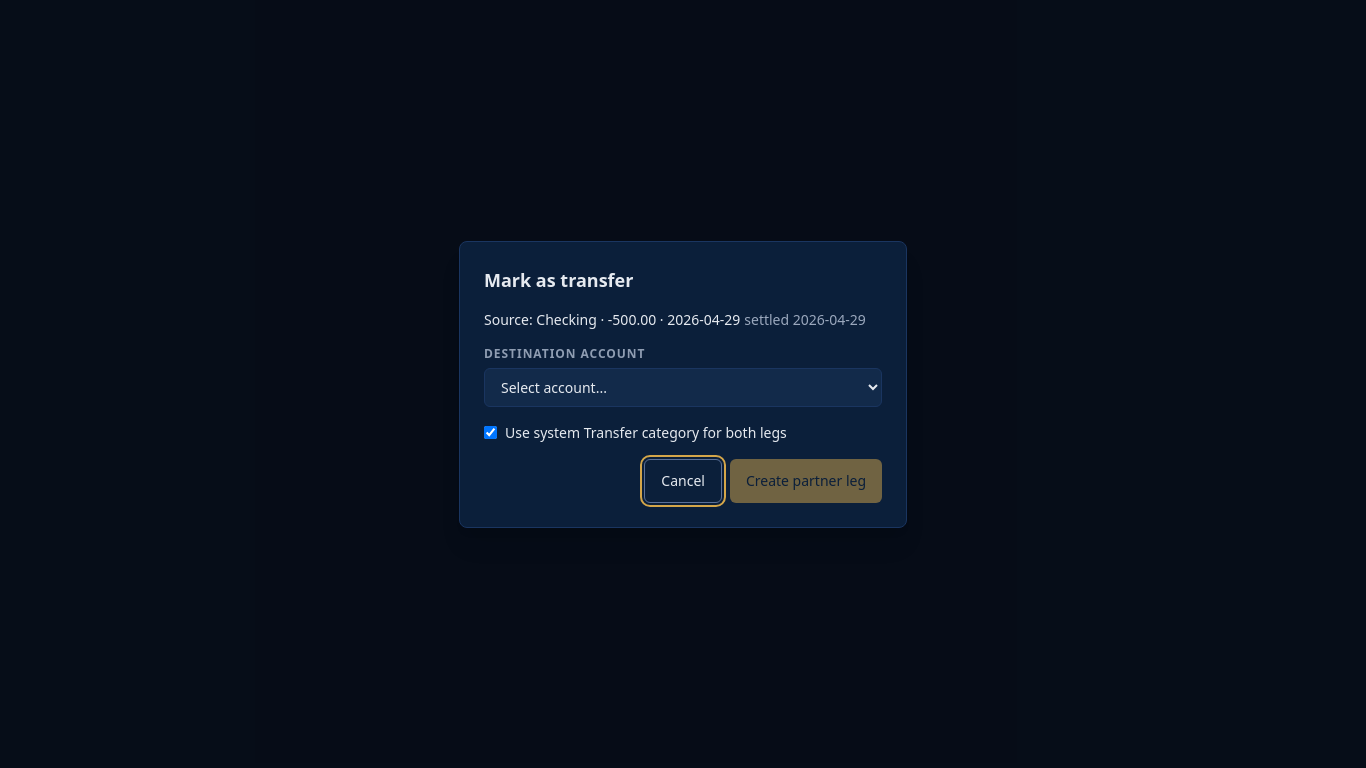
Test: MarkAsTransferModal › Stage 2 single near-date match: radio NOT pre-selected, primary disabled until ticked
Select "Savings" in the dropdown at (683, 387), box [484,368,882,406]
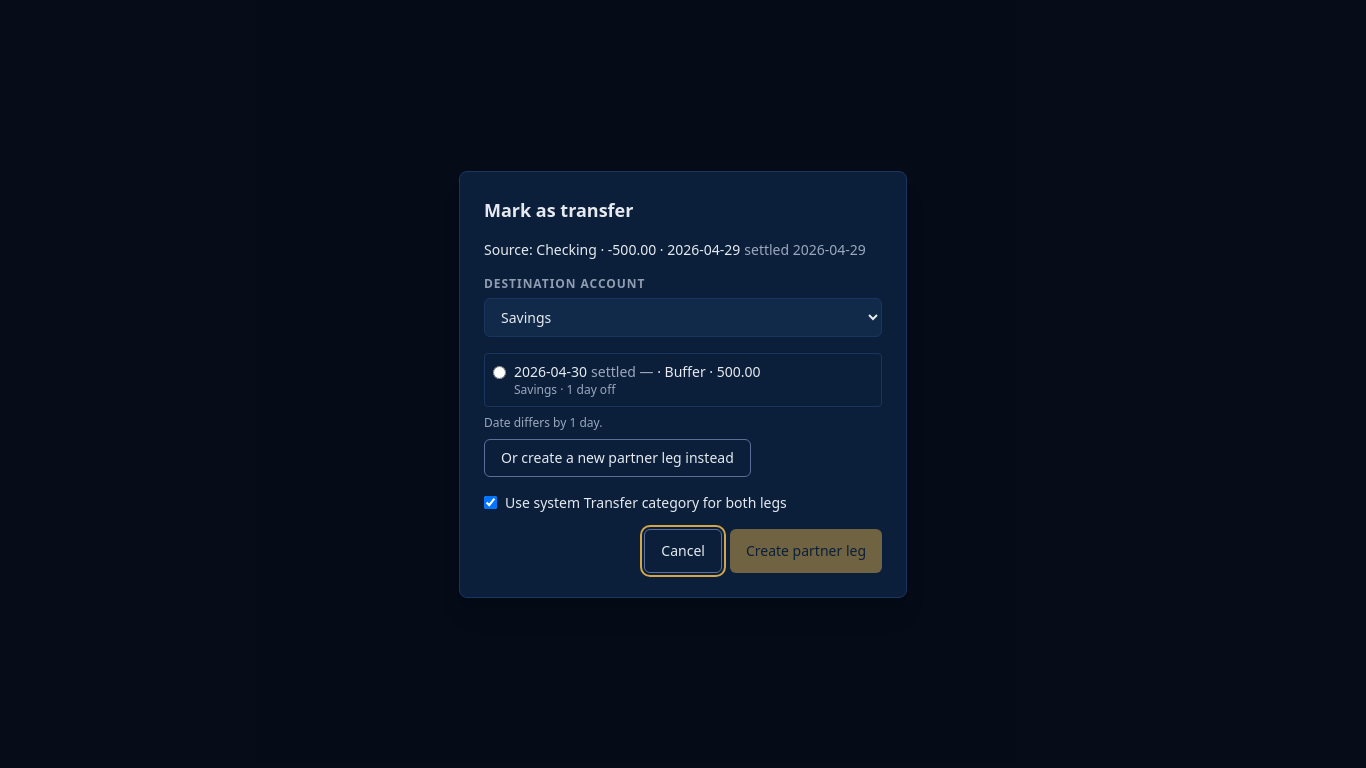
Check: the button "Create partner leg" is disabled, box [730,528,882,572]
Check: the text "Date differs by 1 day." is shown, box [484,414,602,430]
Check: the radio button is not checked
Click the radio button at (500, 372), box [493,366,506,378]
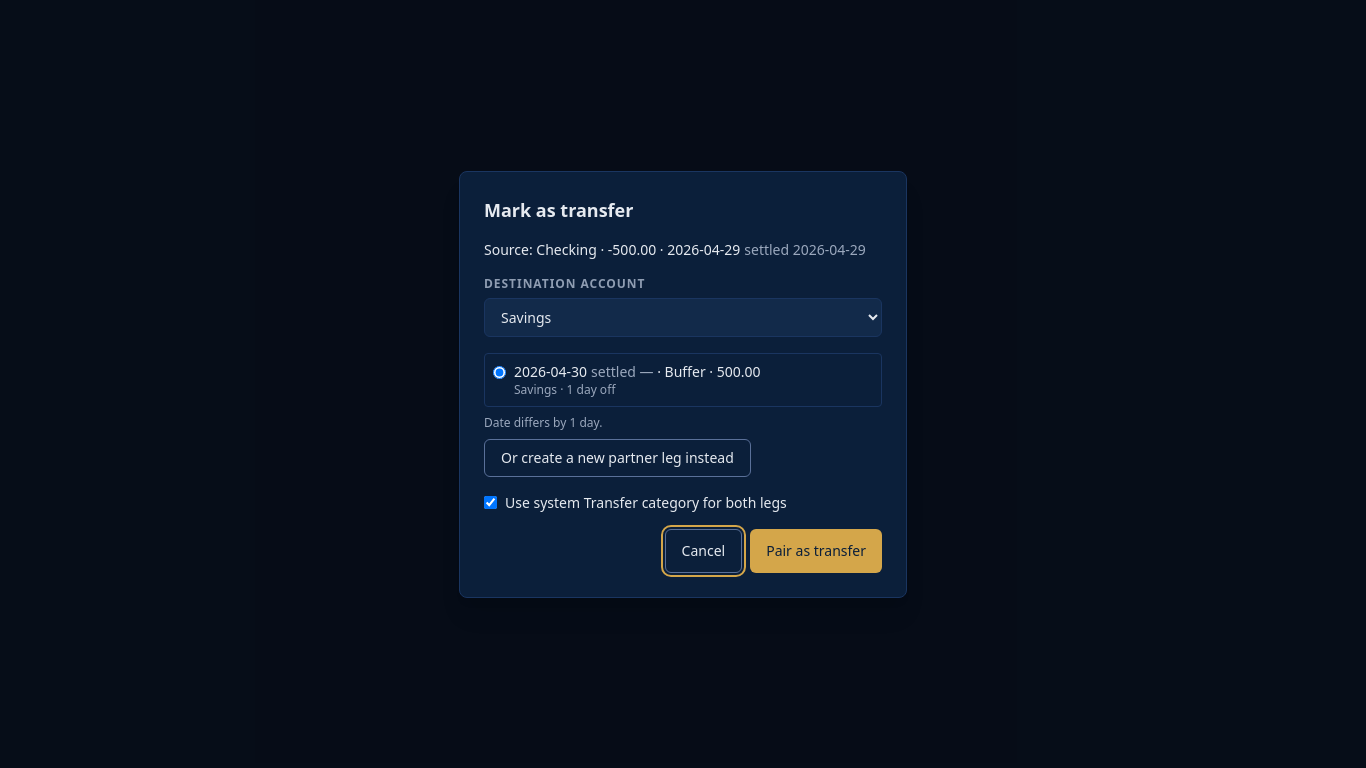
Check: the button "Pair as transfer" is enabled, box [750,528,882,572]
